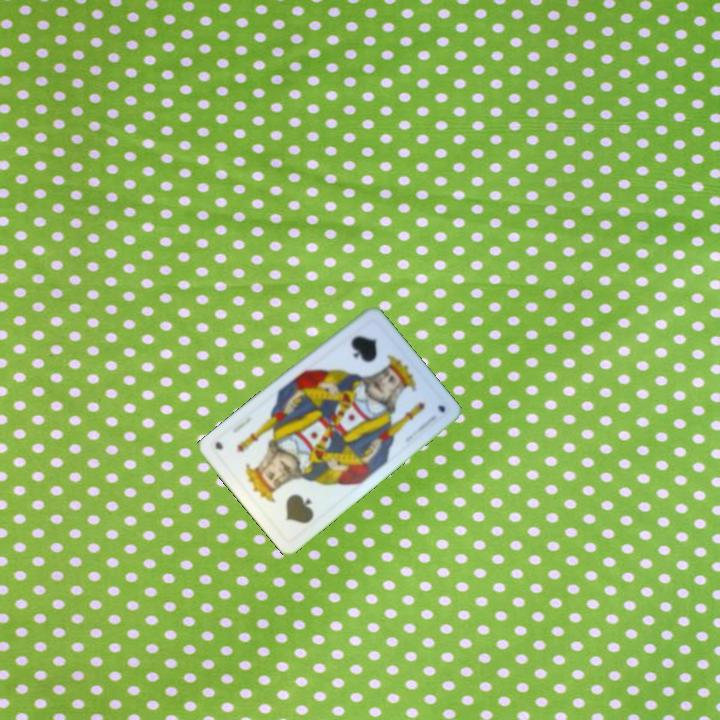s_k.png: (326, 313, 411, 400), (247, 458, 332, 544)
